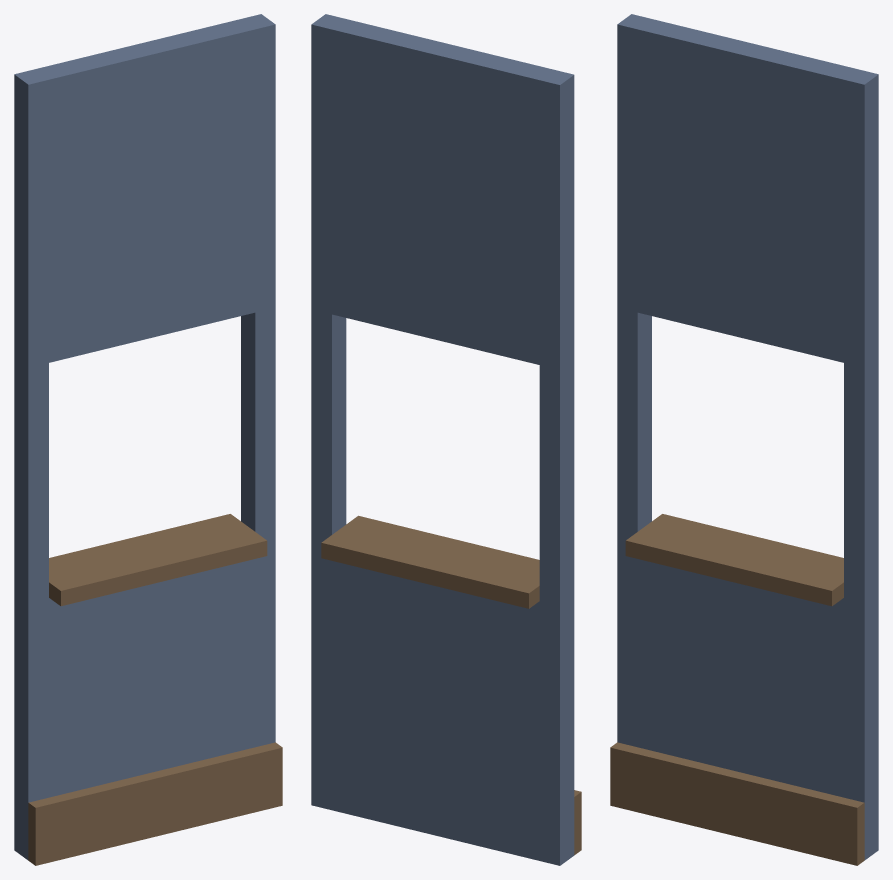
The model's file is Mesh_WallBaseboard_E2.fbx.
The picture shows the model from 3 angles, left to right: view 1: azimuth 30°, elevation 25°; view 2: azimuth 150°, elevation 25°; view 3: azimuth 330°, elevation 25°; orthographic projection.
Parts seen in each view (by area): view 1: Mesh_WallBaseboard_E2; view 2: Mesh_WallBaseboard_E2; view 3: Mesh_WallBaseboard_E2.
Boxes of the visible parts, x1,y1,x2,y2 form: Mesh_WallBaseboard_E2: [14, 14, 282, 865]; Mesh_WallBaseboard_E2: [311, 14, 581, 865]; Mesh_WallBaseboard_E2: [610, 14, 878, 865].
Bounding box in the file's own units: 1 × 3 × 0.2574.
